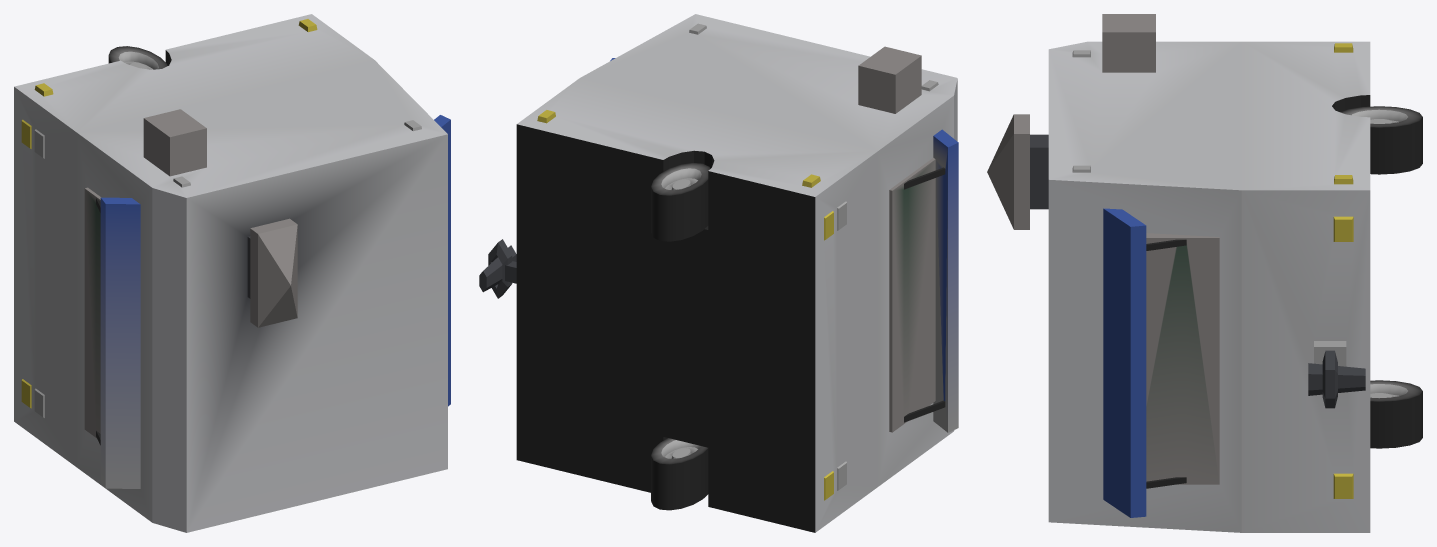
File: camper-trailer.glb
3 views of the same model, side by side, from view 1: azimuth 30°, elevation 25°; view 2: azimuth 150°, elevation 25°; view 3: azimuth 270°, elevation 25° (orthographic). The views are drawn at different scales.
Visible parts, largest first — view 1: vehicle/camper-trailer; view 2: vehicle/camper-trailer; view 3: vehicle/camper-trailer.
Part boxes in pixels (x1,y1,x2,y2): vehicle/camper-trailer: [14, 14, 450, 532]; vehicle/camper-trailer: [479, 14, 958, 532]; vehicle/camper-trailer: [987, 14, 1422, 532].
Size of the model in its own units: 1 by 1 by 1.
